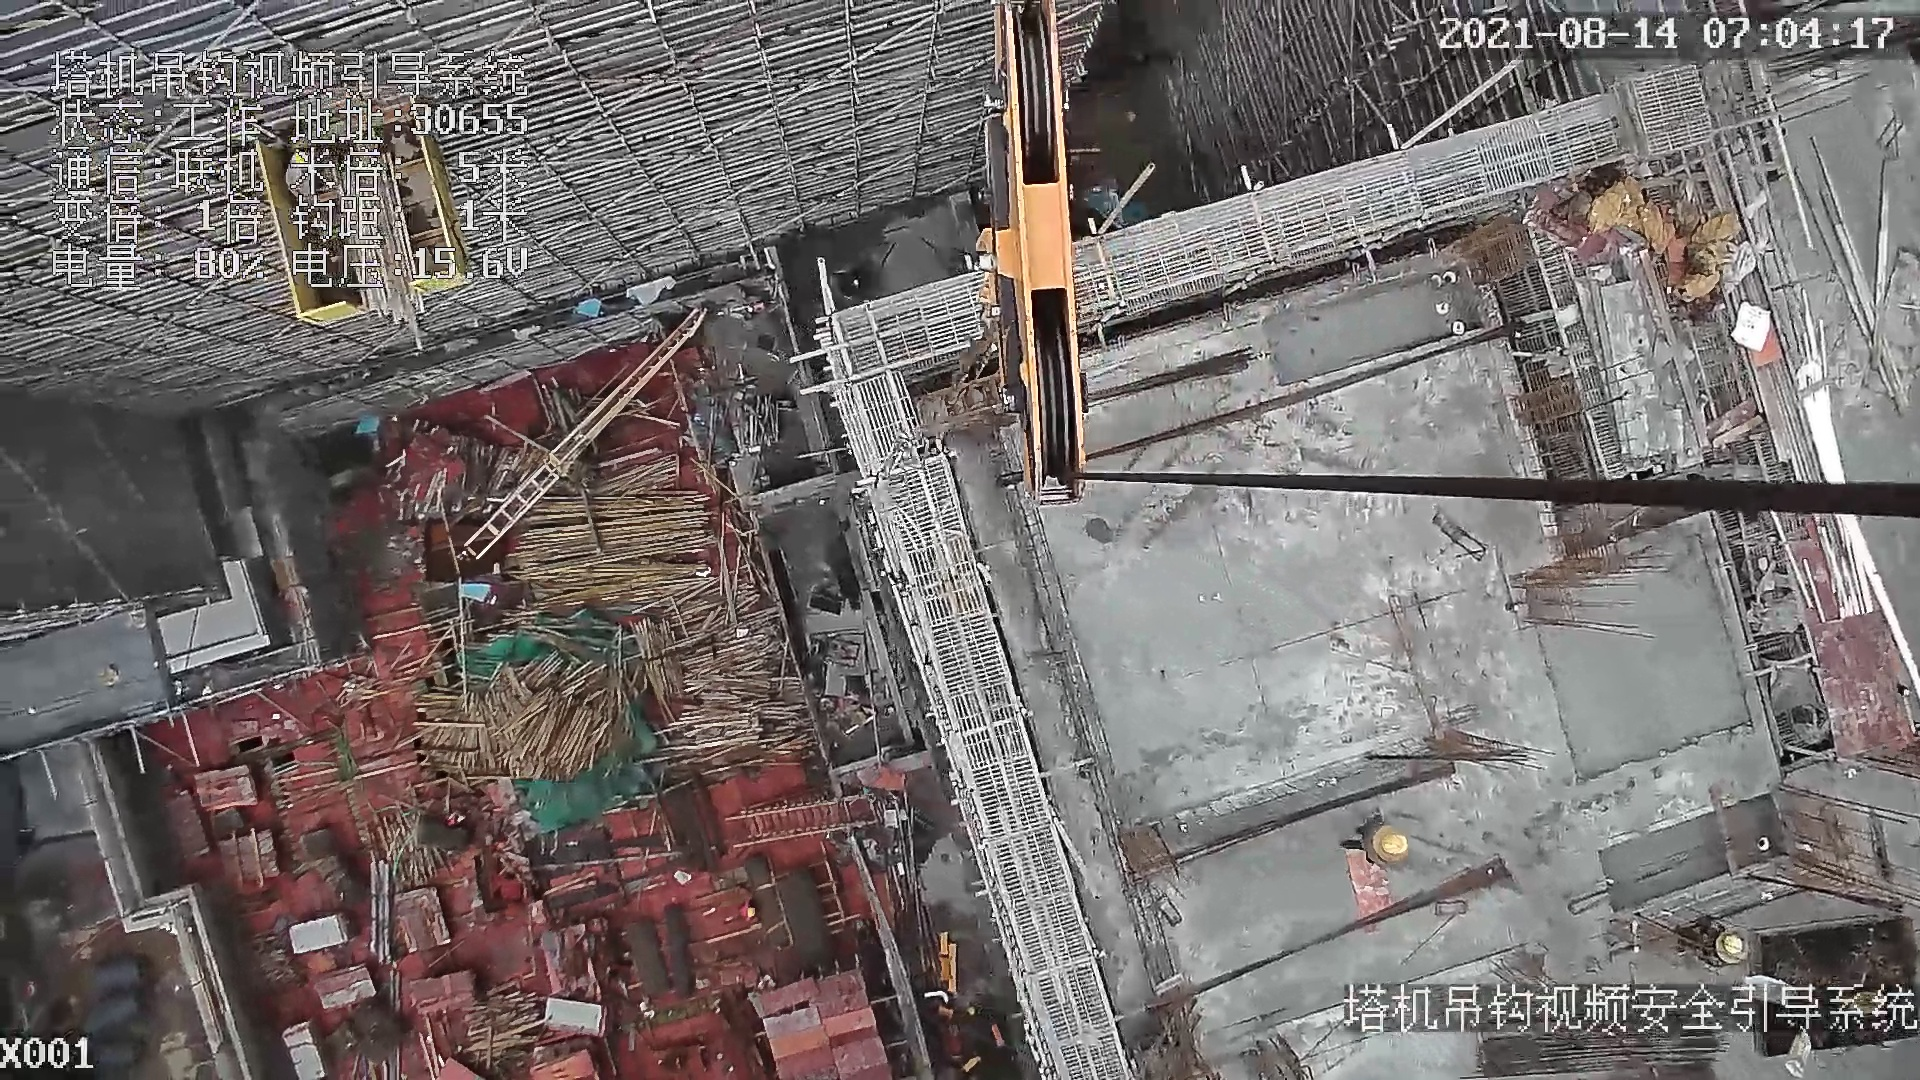hook: (962, 1, 1091, 515)
person: (1677, 913, 1753, 970), (1354, 805, 1414, 871)
